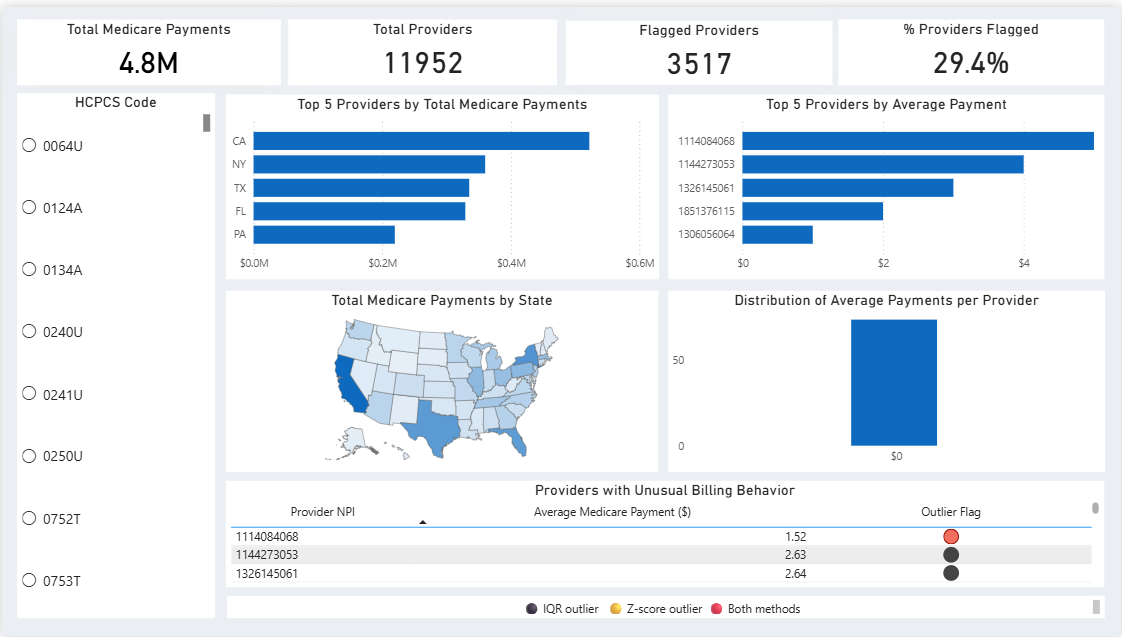

What the dashboard file says about the page in this screenshot:
{"tool":"powerbi","page":{"name":"Executive Overview","canvas":[1280,720],"ordinal":0},"visuals":[{"type":"card","title":"Total Medicare Payments","fields":{"Values":["Sum(provider_summary.Total_Payments)"]},"box":[17.5,13.8,301.2,75],"z":0},{"type":"card","title":"Total Providers","fields":{"Values":["Count(provider_summary.Rndrng_NPI)"]},"box":[327.5,13.8,307.5,75],"z":1000},{"type":"card","title":"Flagged Providers","fields":{"Values":["Count(provider_summary.Rndrng_NPI)"]},"box":[643.8,15,305,73.8],"z":2000},{"type":"card","title":"% Providers Flagged","fields":{"Values":["provider_summary.Percent Providers Flagged"]},"box":[956.2,13.8,303.8,75],"z":3000},{"type":"clusteredBarChart","title":"Top 5 Providers by Total Medicare Payments","fields":{"Category":["state_summary.Rndrng_Prvdr_State_Abrvtn"],"Y":["Sum(state_summary.Total_Payments)"]},"box":[256.2,100,495,211.2],"z":4000},{"type":"clusteredColumnChart","title":"Distribution of Average Payments per Provider","fields":{"Y":["CountNonNull(grouped.Rndrng_NPI)"],"Category":["grouped.Avg_Mdcr_Pymt_Amt (bins)"]},"box":[760,323.8,500,207.5],"z":5000},{"type":"clusteredBarChart","title":"Top 5 Providers by Average Payment","fields":{"Category":["grouped.Rndrng_NPI"],"Y":["grouped.Provider Rank"]},"box":[761.2,100,498.8,211.2],"z":6000},{"type":"tableEx","title":"Providers with Unusual Billing Behavior","fields":{"Values":["grouped.Rndrng_NPI","Avg(grouped.Avg_Mdcr_Pymt_Amt)","grouped.Outlier_Type"]},"box":[256.2,541.2,1003.8,121.2],"z":7000},{"type":"listSlicer","title":"HCPCS Code","fields":{"Values":["grouped.HCPCS_Cd"]},"box":[17.5,98.8,226.2,600],"z":8000},{"type":"shapeMap","title":"Total Medicare Payments by State","fields":{"Category":["state_summary.Rndrng_Prvdr_State_Abrvtn"],"Value":["Sum(state_summary.Total_Payments)"]},"box":[256.2,323.8,495,207.5],"z":9000},{"type":"card","fields":{"Values":["grouped.Outlier Message"]},"box":[264.3,594.3,990,68.6],"z":10000},{"type":"textbox","box":[257.1,672.9,1002.9,25.7],"z":11000}]}

Visuals, with their boxes in screenshot pixels (x1, y1, x2, y2), scaled from the page's 1280x720 canvas onto the 1122x637 screenshot:
"Total Medicare Payments" card: x1=15 y1=12 x2=279 y2=79
"Total Providers" card: x1=287 y1=12 x2=557 y2=79
"Flagged Providers" card: x1=564 y1=13 x2=832 y2=79
"% Providers Flagged" card: x1=838 y1=12 x2=1104 y2=79
"Top 5 Providers by Total Medicare Payments" clusteredBarChart: x1=225 y1=88 x2=658 y2=275
"Distribution of Average Payments per Provider" clusteredColumnChart: x1=666 y1=286 x2=1104 y2=470
"Top 5 Providers by Average Payment" clusteredBarChart: x1=667 y1=88 x2=1104 y2=275
"Providers with Unusual Billing Behavior" tableEx: x1=225 y1=479 x2=1104 y2=586
"HCPCS Code" listSlicer: x1=15 y1=87 x2=214 y2=618
"Total Medicare Payments by State" shapeMap: x1=225 y1=286 x2=658 y2=470
card - grouped.Outlier Message: x1=232 y1=526 x2=1099 y2=586
textbox: x1=225 y1=595 x2=1104 y2=618
